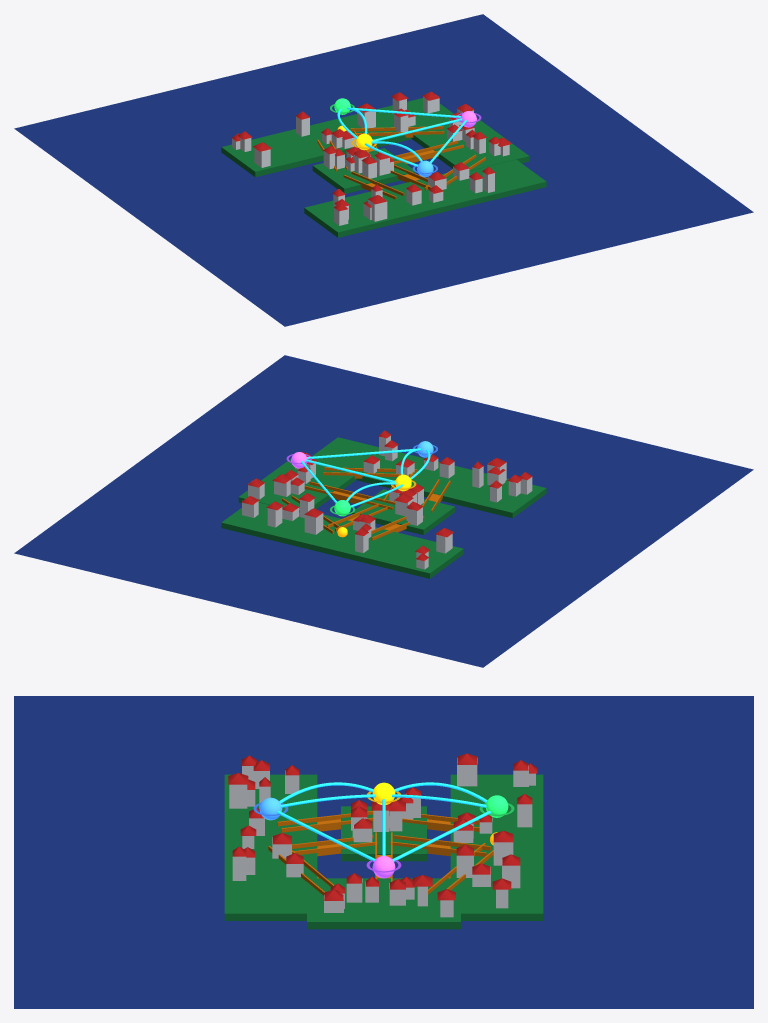
File: asset.glb
3 views of the same model, one above another, from view 1: azimuth 30°, elevation 25°; view 2: azimuth 150°, elevation 25°; view 3: azimuth 270°, elevation 25° (orthographic). The views are drawn at different scales.
Parts seen in each view (by area): view 1: City_3D_Geometry, Graph_Topology_Overlay; view 2: City_3D_Geometry, Graph_Topology_Overlay; view 3: City_3D_Geometry, Graph_Topology_Overlay.
Boxes of the visible parts, bbox=[...] form: City_3D_Geometry: bbox=[14, 14, 753, 326]; Graph_Topology_Overlay: bbox=[330, 98, 481, 177]; City_3D_Geometry: bbox=[14, 355, 753, 667]; Graph_Topology_Overlay: bbox=[286, 441, 437, 516]; City_3D_Geometry: bbox=[14, 696, 753, 1008]; Graph_Topology_Overlay: bbox=[253, 782, 514, 878].
Size of the model in its own units: 36 by 3.01 by 36.
